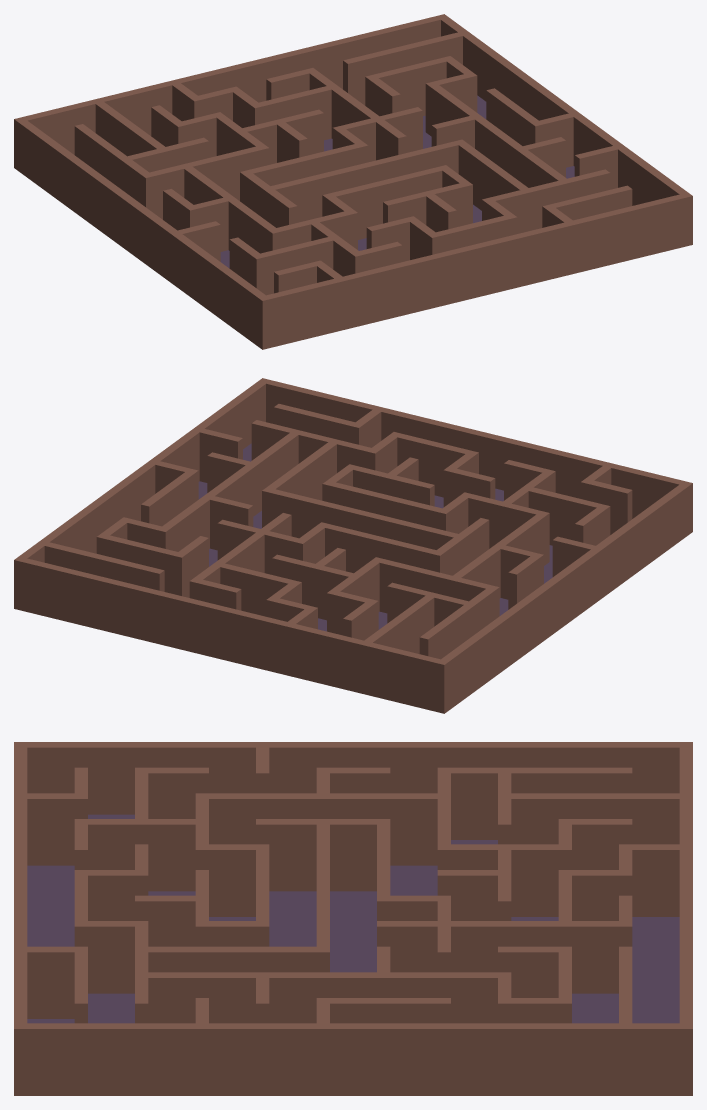
Rendered from Level24Ground.FBX.
The picture shows the model from 3 angles, top to bottom: view 1: azimuth 30°, elevation 25°; view 2: azimuth 150°, elevation 25°; view 3: azimuth 270°, elevation 25°; orthographic projection. The views are drawn at different scales.
Parts seen in each view (by area): view 1: pPlane2; view 2: pPlane2; view 3: pPlane2.
Part boxes in pixels (x1,y1,x2,y2): pPlane2: (14, 14, 692, 349); pPlane2: (14, 378, 692, 713); pPlane2: (14, 742, 692, 1095).
Bounding box in the file's own units: 258 × 28 × 258.
